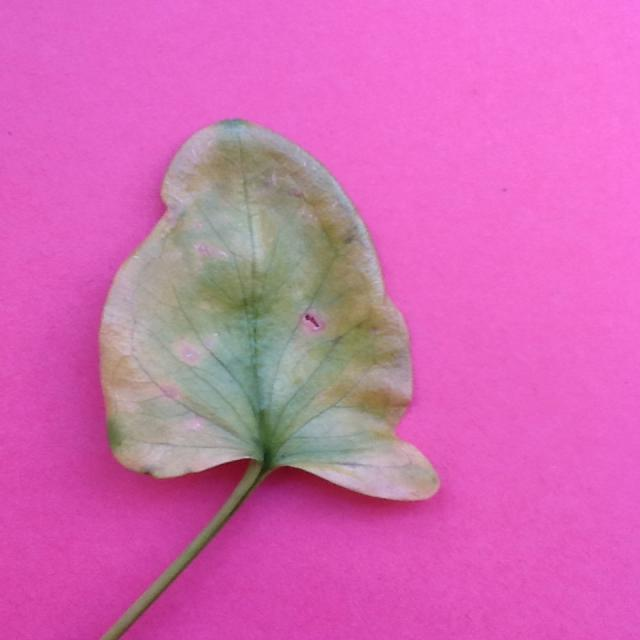foliage: (94, 115, 442, 640)
